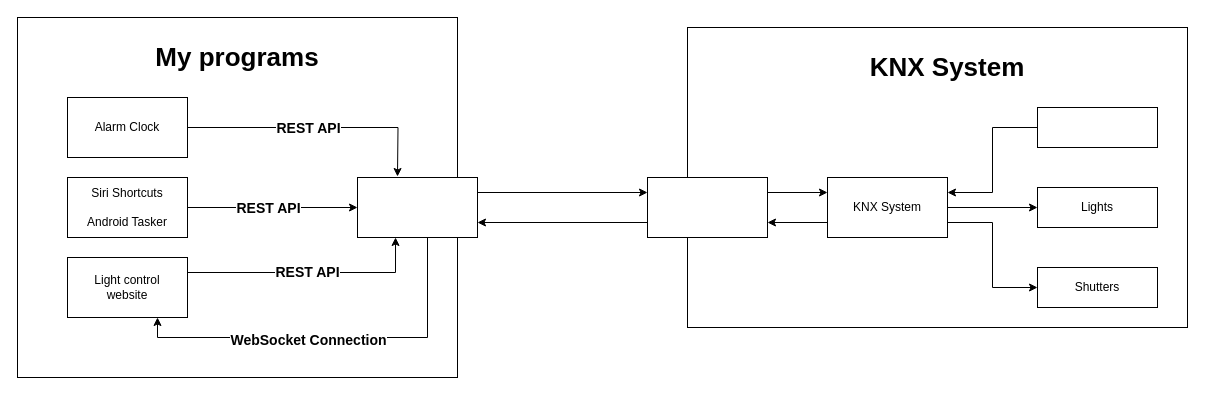
This 1205x395 diagram has some shape labels left out. The box of each missing label's shape, as (x1, y1, x2, y2) in pixels:
Hub: (356, 176, 478, 238)
KNX BAOS: (646, 176, 768, 238)
Switches: (1036, 106, 1158, 148)
